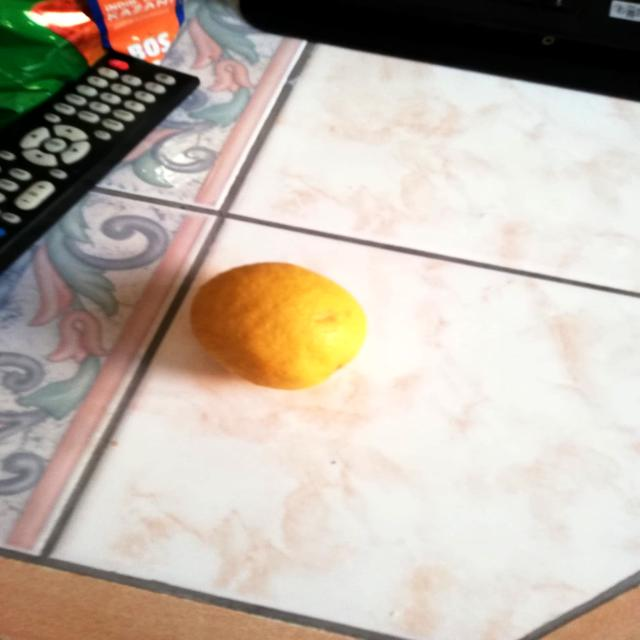lemon: (192, 262, 370, 388)
